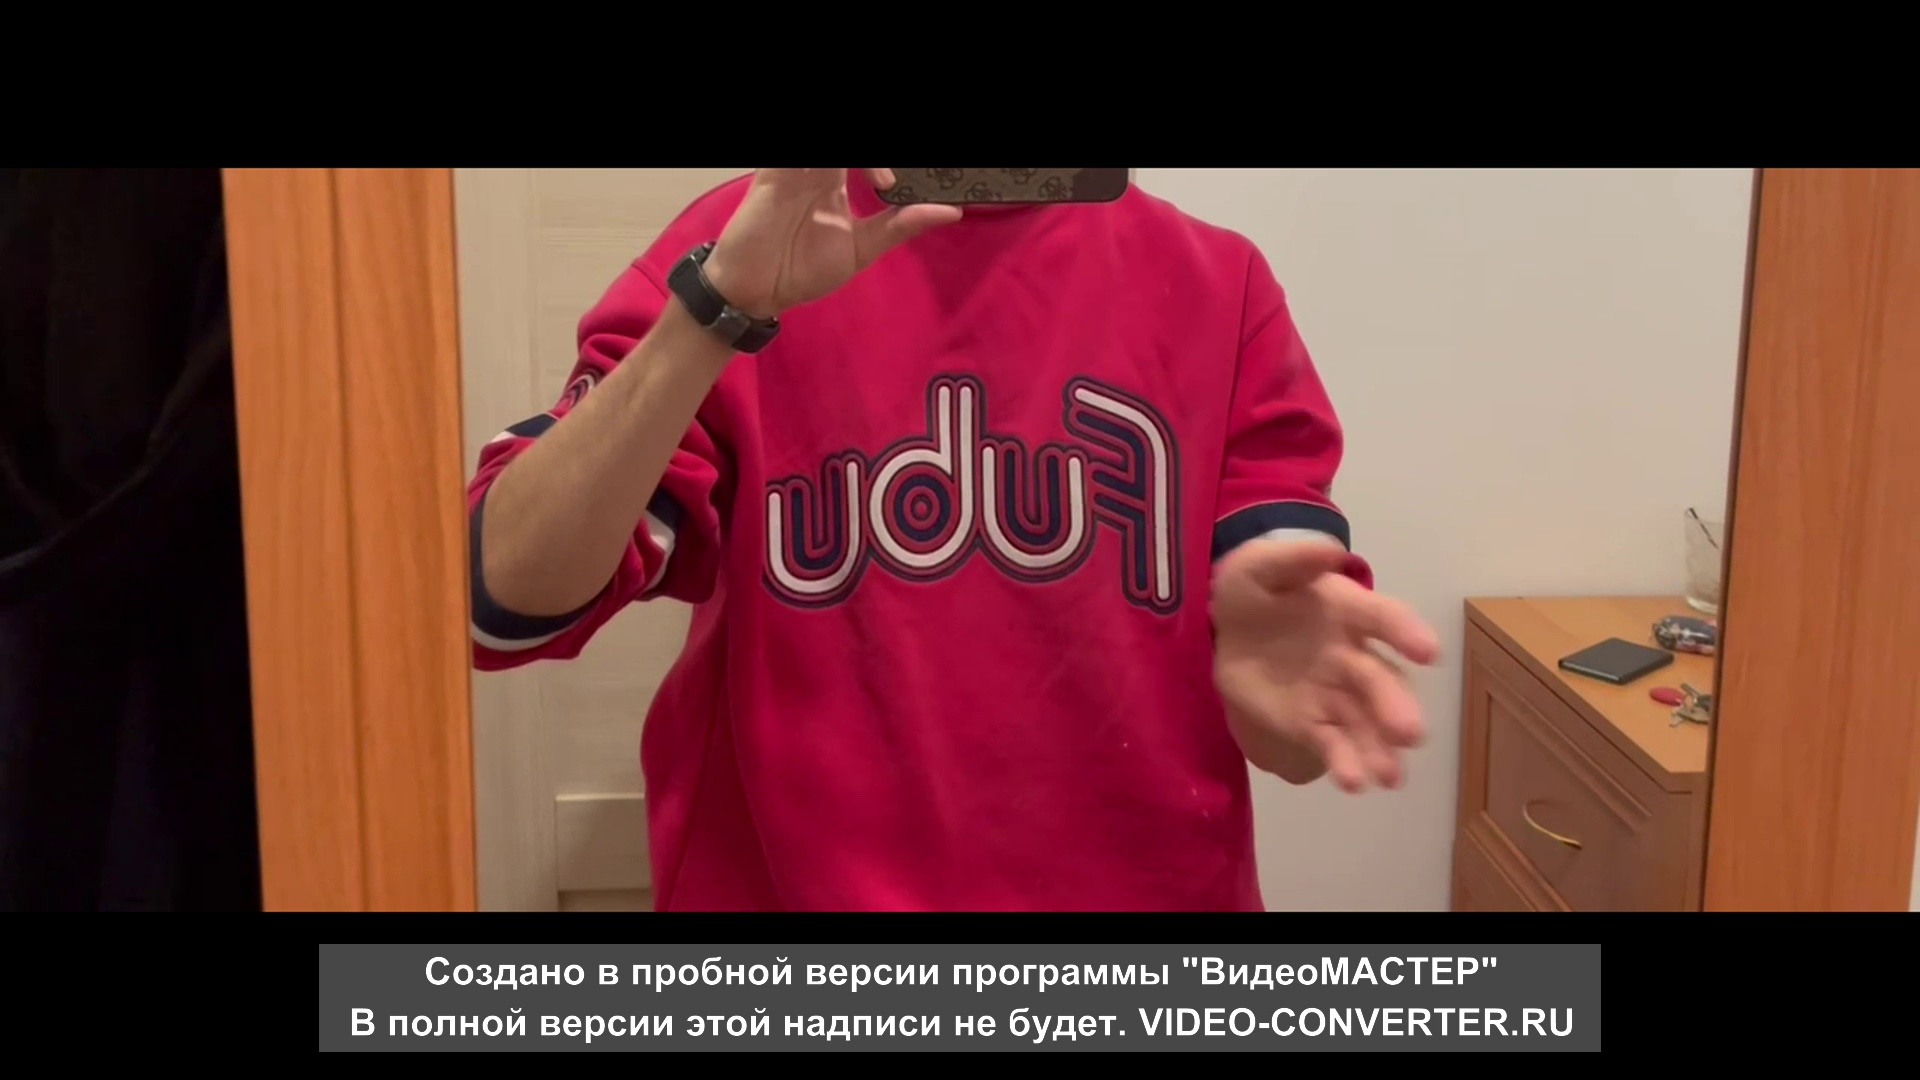Ладонь: (1211, 534, 1437, 790)
